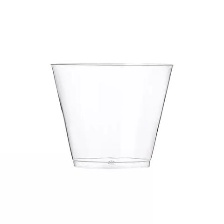glass: (46, 56, 181, 171)
